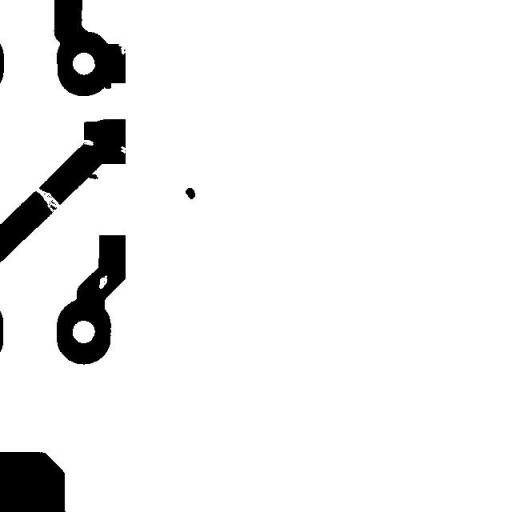copper: (178, 180, 202, 206)
mousebite: (110, 35, 136, 62), (74, 132, 100, 153), (113, 138, 133, 161)
open: (24, 178, 68, 219)
pin-hole: (92, 267, 114, 296)
spur: (78, 165, 106, 186), (96, 74, 118, 96)
